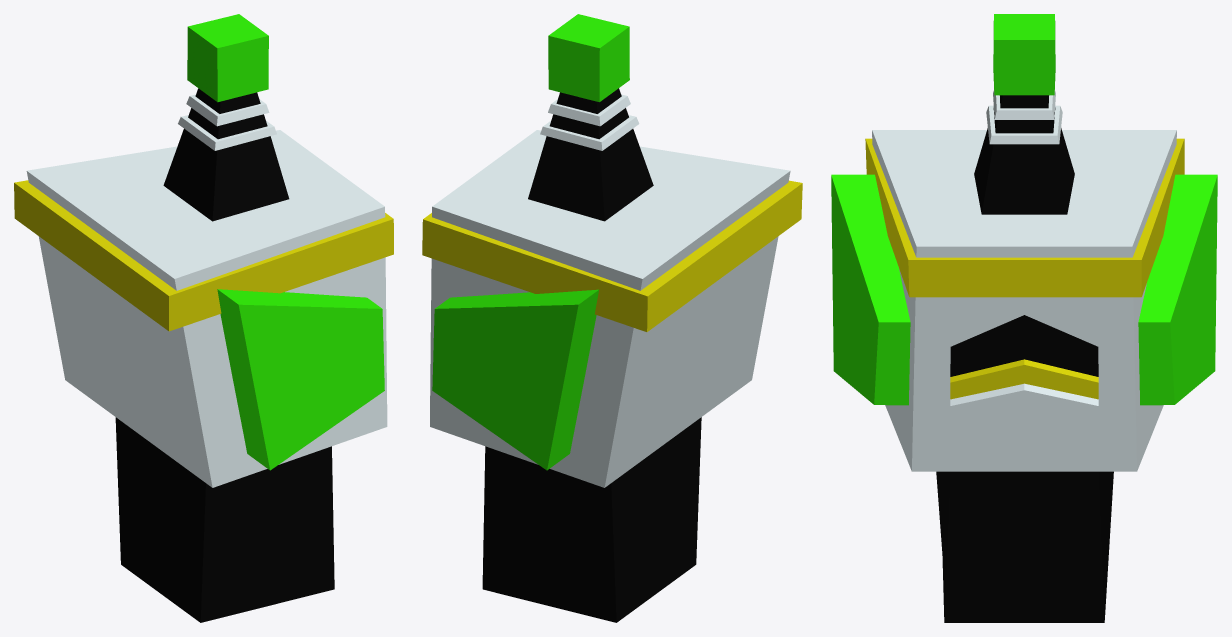
Rendered from Robot_Phys.fbx.
The picture shows the model from 3 angles, left to right: view 1: azimuth 30°, elevation 25°; view 2: azimuth 150°, elevation 25°; view 3: azimuth 270°, elevation 25°; orthographic projection. The views are drawn at different scales.
Visible parts, largest first — view 1: Cube; view 2: Cube; view 3: Cube.
Part boxes in pixels (left/top/right/bottom): Cube: left=14, top=14, right=393, bottom=622; Cube: left=422, top=14, right=802, bottom=622; Cube: left=831, top=14, right=1217, bottom=622.
Bounding box in the file's own units: 236 × 500 × 312.
